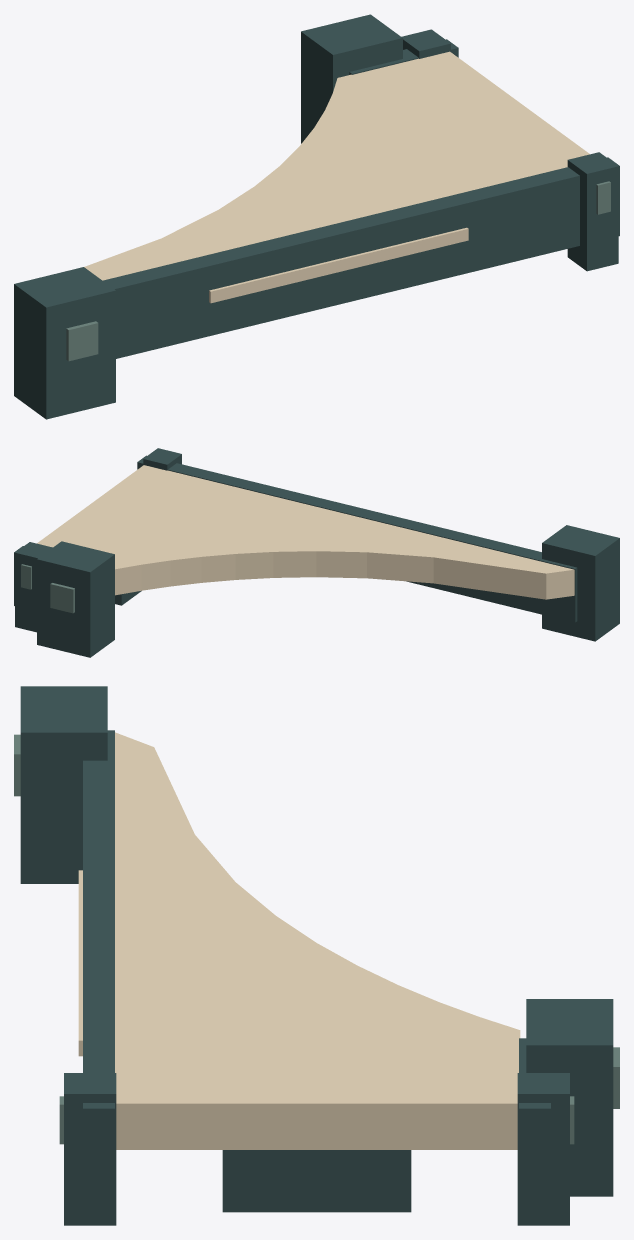
The model's file is Pier_Angled_55_lab2.glb.
3 views of the same model, one above another, from view 1: azimuth 30°, elevation 25°; view 2: azimuth 150°, elevation 25°; view 3: azimuth 270°, elevation 25° (orthographic). The views are drawn at different scales.
Parts seen in each view (by area): view 1: Pier_Angled_55; view 2: Pier_Angled_55; view 3: Pier_Angled_55.
Boxes of the visible parts, x1=… form: Pier_Angled_55: x1=14, y1=14, x2=619, y2=419; Pier_Angled_55: x1=14, y1=448, x2=619, y2=657; Pier_Angled_55: x1=14, y1=686, x2=619, y2=1225.
Size of the model in its own units: 6.41 by 1.15 by 4.17.
